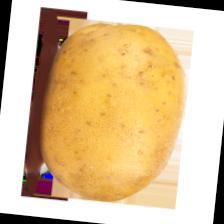potato: (33, 15, 195, 210)
